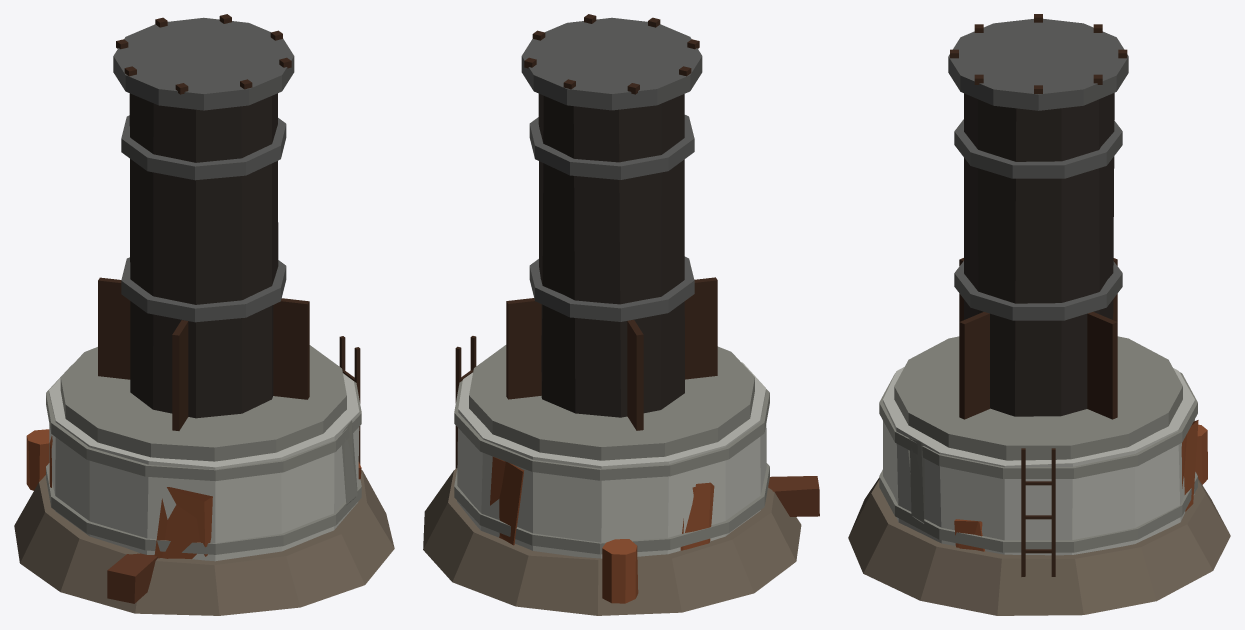
Rendered from crane_base.glb.
3 views of the same model, side by side, from view 1: azimuth 30°, elevation 25°; view 2: azimuth 150°, elevation 25°; view 3: azimuth 270°, elevation 25° (orthographic).
Visible parts, largest first — view 1: crane_base; view 2: crane_base; view 3: crane_base.
Part boxes in pixels (box(x1,y1,x2,y2)): crane_base: box(14, 14, 394, 615); crane_base: box(423, 14, 819, 615); crane_base: box(848, 14, 1230, 615).
Bounding box in the file's own units: 6.3 × 8.93 × 6.36.
